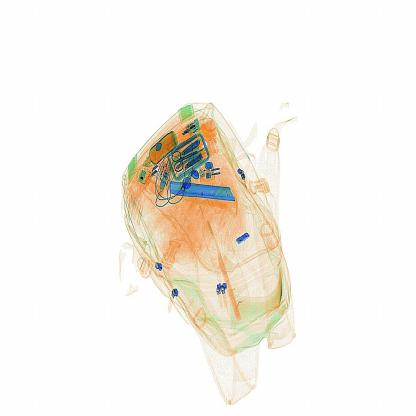pliers: (169, 179, 245, 210)
